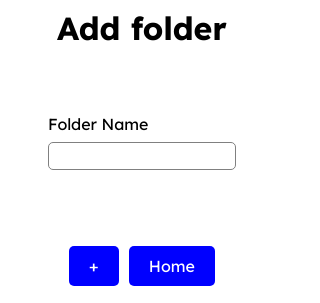
Scenario: AddFolder › should disable input and submit button and update button text when loading is true
Step 1. Type "Test Folder" into the field labelled "Folder Name" → coordinates (142, 156), box [48, 142, 236, 170]
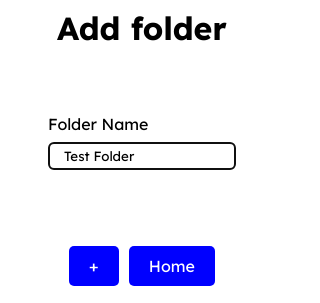
Step 2. Click the button "+" → coordinates (94, 266), box [69, 246, 119, 286]
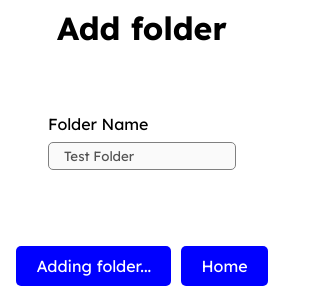
Now the button named "+" is disabled, box [16, 246, 171, 286]
Now the button named "+" reads "Adding folder...", box [16, 246, 171, 286]
Now the field labelled "Folder Name" is disabled, box [48, 142, 236, 170]
